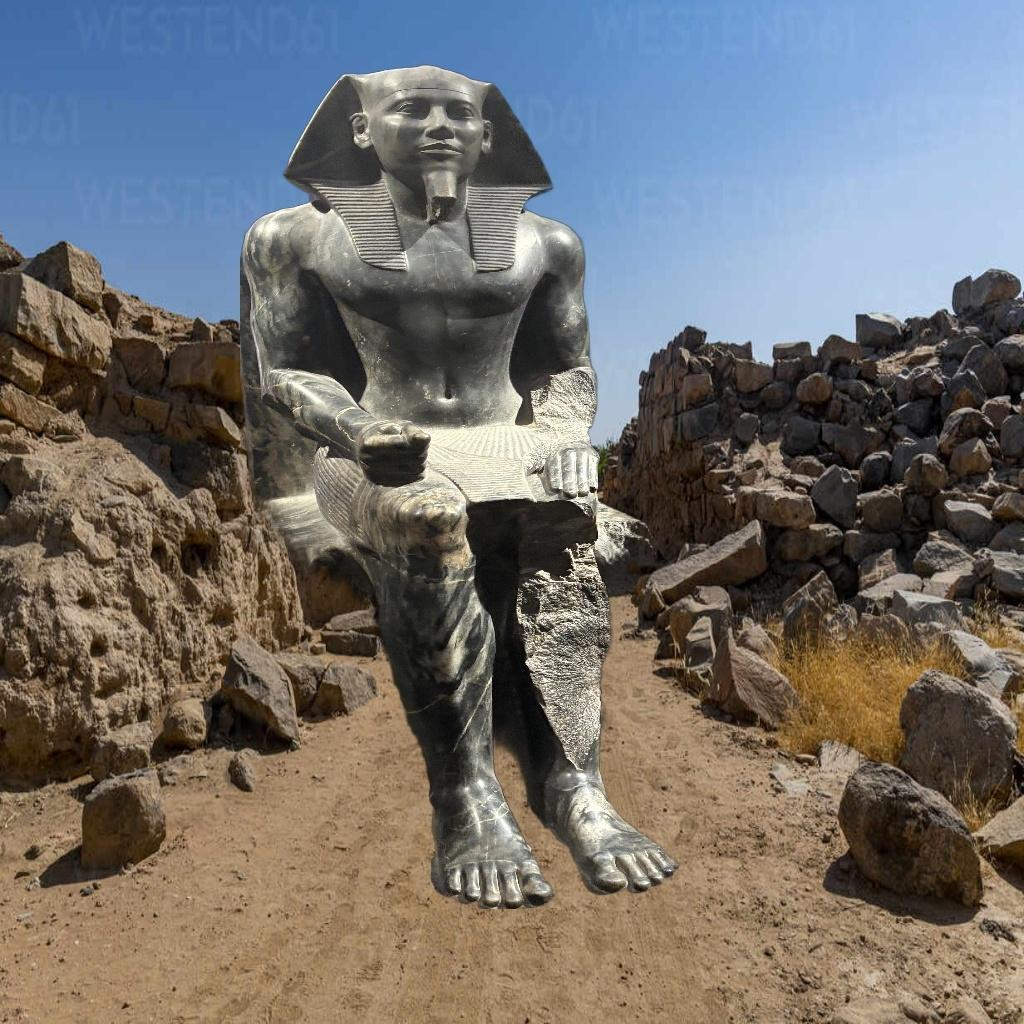Statue of Khafre: (240, 62, 684, 909)
